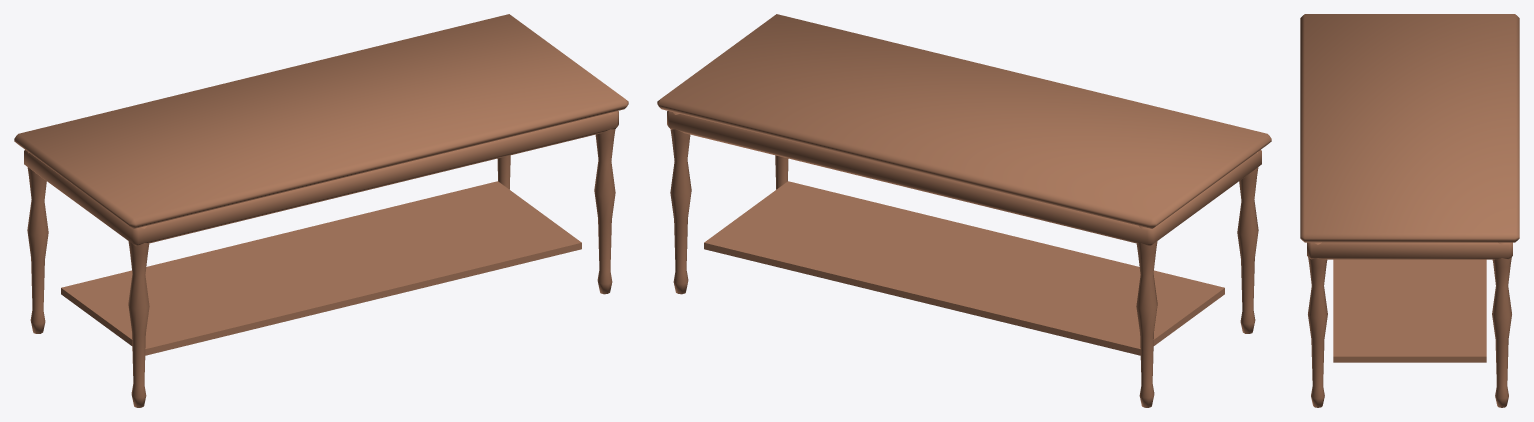
Rendered from table_work.glb.
3 views of the same model, side by side, from view 1: azimuth 30°, elevation 25°; view 2: azimuth 150°, elevation 25°; view 3: azimuth 270°, elevation 25° (orthographic). The views are drawn at different scales.
Parts seen in each view (by area): view 1: table_work; view 2: table_work; view 3: table_work.
Part boxes in pixels (x1,y1,x2,y2): table_work: (14,14,628,407); table_work: (657,14,1271,407); table_work: (1300,14,1519,407).
Size of what is drawn, in the model's own units: 2.4 by 0.9 by 1.
